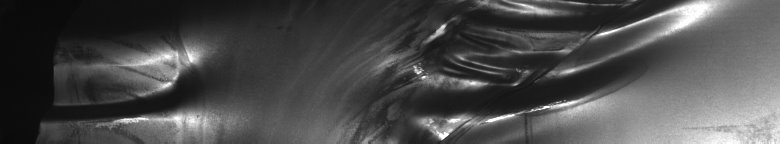ke: (116, 40, 199, 128)
